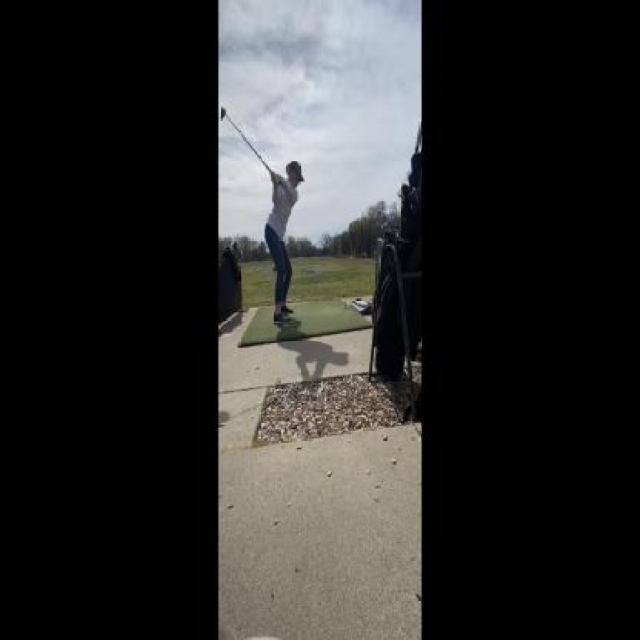club head: (220, 104, 228, 121)
